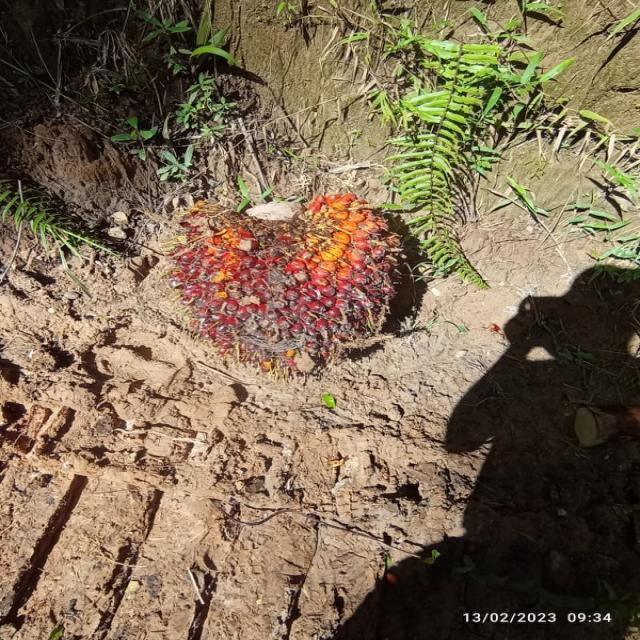fraksi 3: (133, 147, 460, 397)
